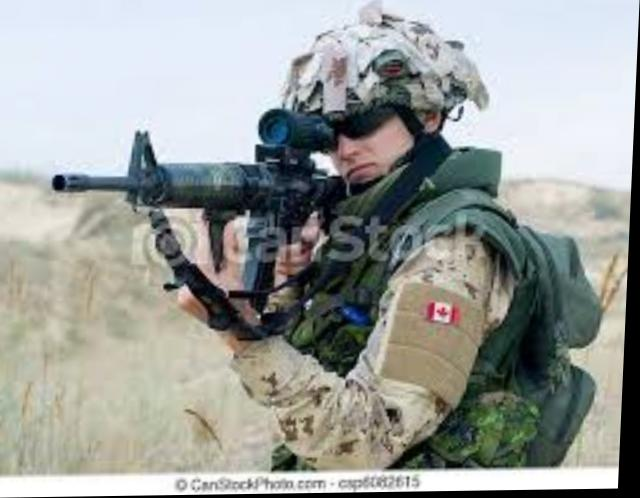other: (186, 12, 549, 467)
